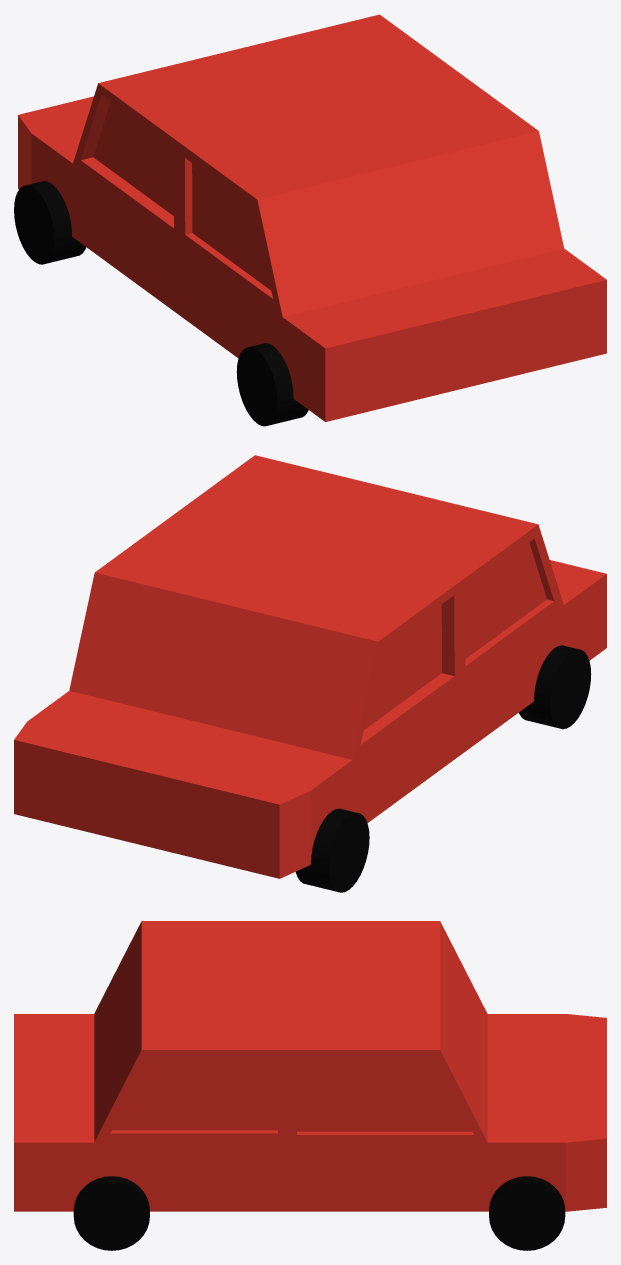
Rendered from car.fbx.
3 views of the same model, one above another, from view 1: azimuth 30°, elevation 25°; view 2: azimuth 150°, elevation 25°; view 3: azimuth 270°, elevation 25° (orthographic). The views are drawn at different scales.
Visible parts, largest first — view 1: Cube, Circle, Circle.003; view 2: Cube, Circle, Circle.003; view 3: Cube, Circle.001, Circle.002.
Part boxes in pixels (bbox=[...]): Cube: bbox=[18, 14, 606, 421]; Circle: bbox=[14, 181, 86, 264]; Circle.003: bbox=[236, 343, 308, 426]; Cube: bbox=[14, 455, 606, 878]; Circle: bbox=[295, 808, 369, 892]; Circle.003: bbox=[519, 645, 591, 729]; Cube: bbox=[14, 921, 606, 1211]; Circle.001: bbox=[489, 1176, 565, 1250]; Circle.002: bbox=[73, 1176, 149, 1250].
Bounding box in the file's own units: 884 × 565 × 1555.
